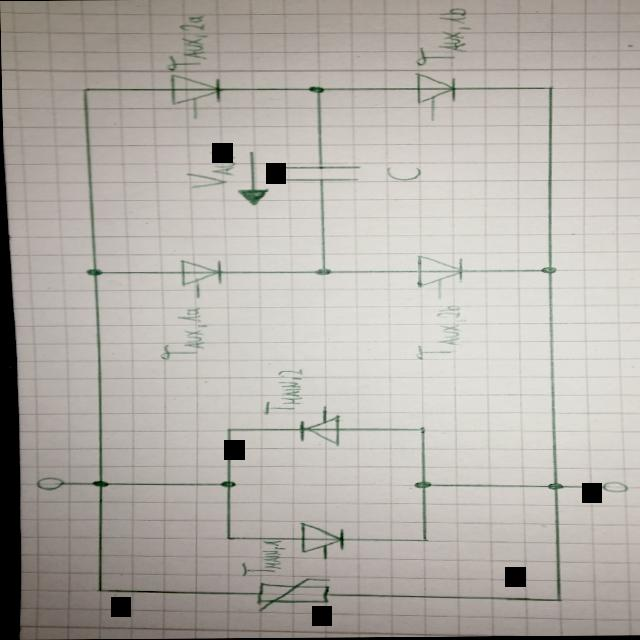capacitor: (273, 161, 363, 185)
junction: (86, 479, 108, 489), (410, 480, 430, 490), (82, 267, 102, 277), (542, 482, 561, 492), (311, 268, 331, 277), (538, 266, 556, 275), (214, 480, 234, 488), (305, 86, 325, 94), (77, 86, 91, 94), (542, 85, 556, 93), (412, 426, 425, 434), (413, 537, 429, 543), (89, 587, 101, 594), (219, 427, 233, 433), (548, 597, 561, 603), (220, 535, 231, 541)
terminal: (29, 476, 62, 492), (594, 482, 628, 494)
text: (411, 7, 472, 67), (409, 304, 468, 362), (155, 306, 208, 362), (162, 13, 211, 72), (257, 367, 304, 416), (182, 150, 236, 190), (235, 540, 284, 577), (381, 165, 421, 183)
thyristor: (410, 253, 464, 290), (166, 73, 222, 107), (293, 413, 342, 448), (294, 521, 344, 555), (412, 71, 458, 107), (174, 257, 224, 289)
